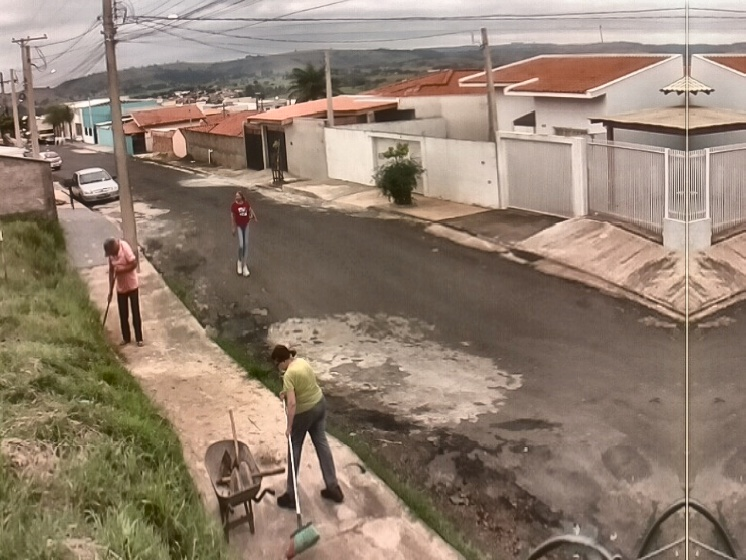person: (269, 342, 346, 509), (102, 235, 146, 349), (231, 191, 256, 277)
